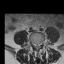CCS_normal: (36, 41, 38, 51)
LFS_normal: (40, 40, 42, 46)
LLS_normal: (38, 41, 40, 49)
RFS_normal: (32, 41, 34, 47)
RLS_normal: (34, 41, 36, 49)
